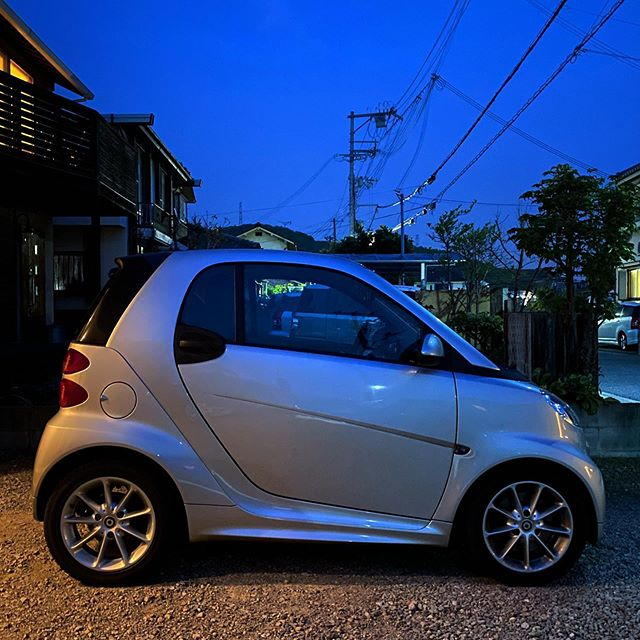building: (1, 19, 196, 244)
car: (63, 246, 593, 585)
sky: (204, 1, 640, 223)
tree: (523, 169, 640, 341), (417, 211, 497, 317)
